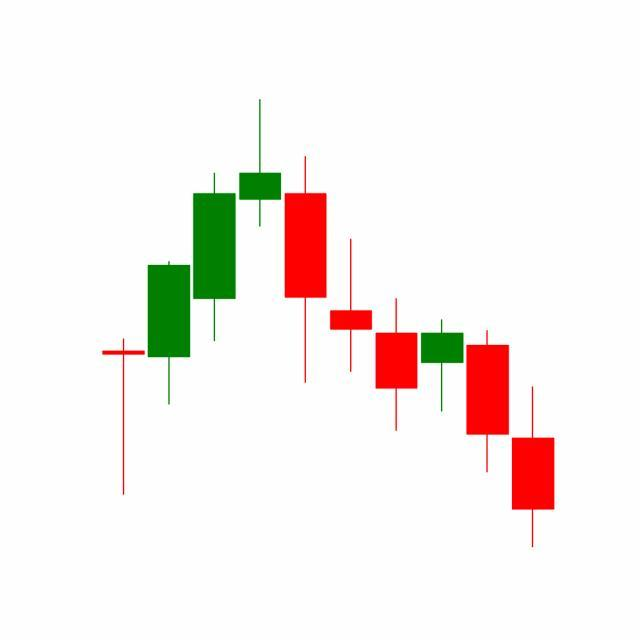Hikkake Pattern: (283, 153, 512, 477)
